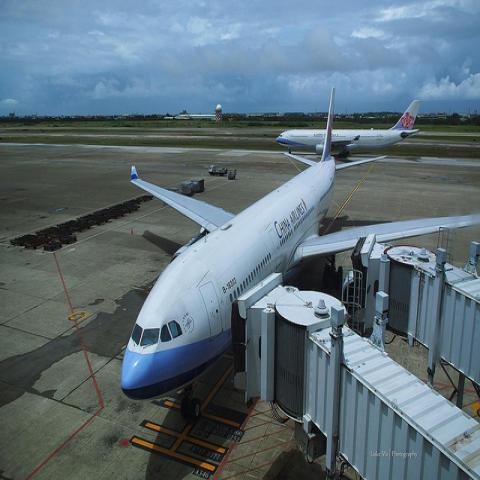truck: (208, 164, 226, 176)
